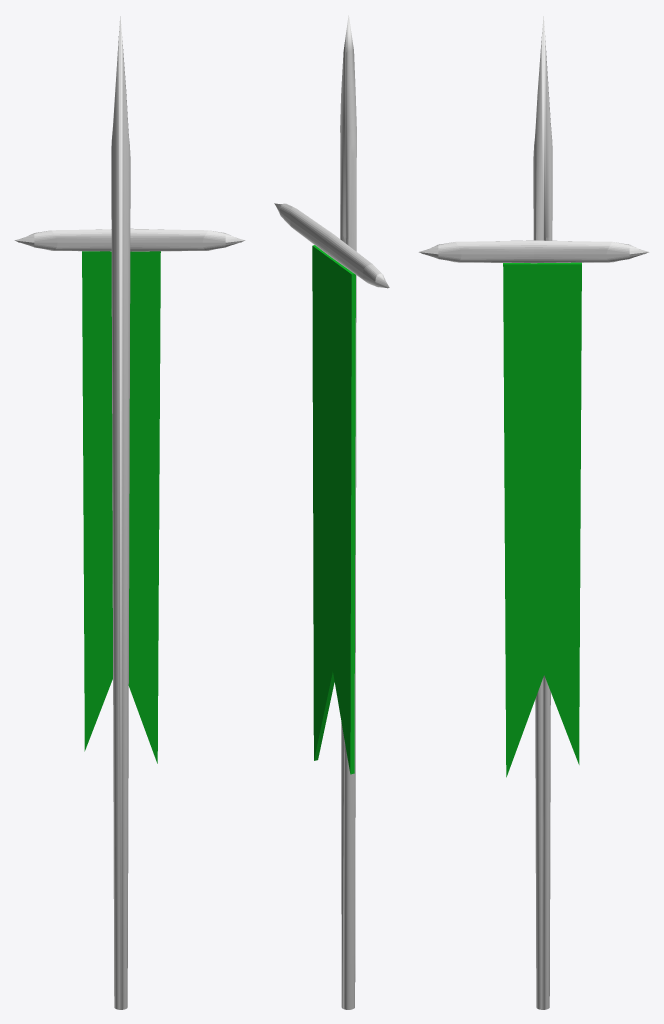
File: Human Banner.fbx
3 views of the same model, side by side, from view 1: azimuth 90°, elevation 25°; view 2: azimuth 210°, elevation 25°; view 3: azimuth 270°, elevation 25° (orthographic).
Parts seen in each view (by area): view 1: Banner, Post, Post 2; view 2: Banner, Post, Post 2; view 3: Banner, Post, Post 2.
Boxes of the visible parts, box(x1,y1,x2,y2) form: Banner: box(82, 251, 160, 763); Post: box(111, 16, 130, 1009); Post 2: box(14, 228, 245, 251); Banner: box(312, 245, 355, 774); Post: box(340, 15, 356, 1009); Post 2: box(274, 203, 389, 288); Banner: box(503, 262, 581, 777); Post: box(533, 16, 552, 1009); Post 2: box(419, 240, 648, 263).
Bounding box in the file's own units: 92.67 × 3817 × 807.
